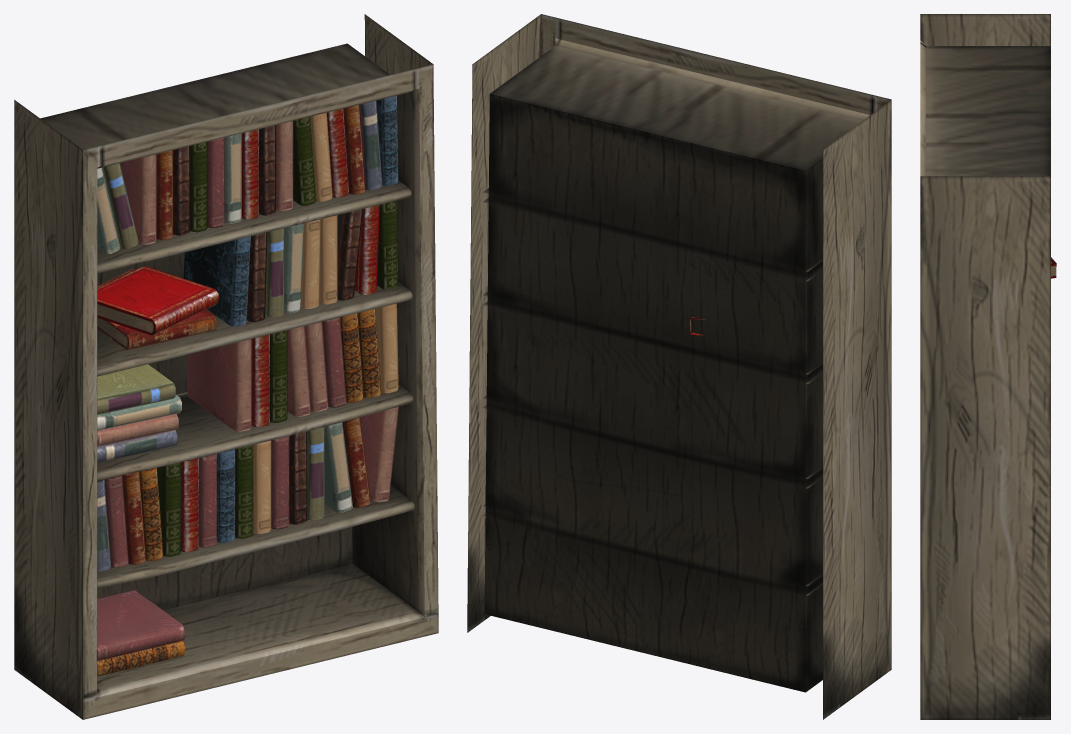
File: bookshelf.fbx
3 views of the same model, side by side, from view 1: azimuth 30°, elevation 25°; view 2: azimuth 150°, elevation 25°; view 3: azimuth 270°, elevation 25° (orthographic). The views are drawn at different scales.
Parts seen in each view (by area): view 1: polySurface2, polySurface68; view 2: polySurface2; view 3: polySurface2.
Boxes of the visible parts, x1=… form: polySurface2: x1=14, y1=14, x2=438, y2=719; polySurface68: x1=97, y1=95, x2=398, y2=676; polySurface2: x1=467, y1=14, x2=891, y2=719; polySurface2: x1=920, y1=14, x2=1050, y2=719.
Size of the model in its own units: 135 by 207 by 47.15.
